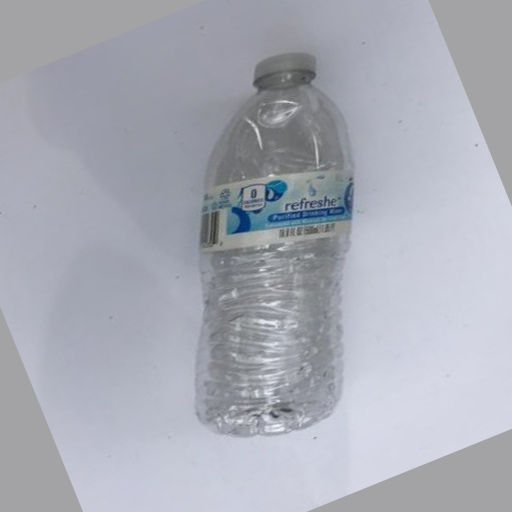Plastic_0: (199, 50, 354, 435)
